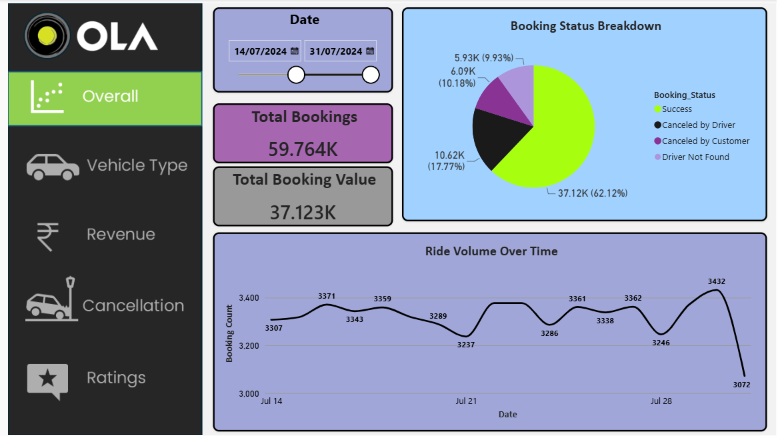

The page's visual inventory and layout, read from the dashboard file:
{"tool":"powerbi","page":{"name":"Overall","canvas":[1920,1080],"ordinal":0},"visuals":[{"type":"actionButton","box":[316.7,398.3,326.7,90],"z":0},{"type":"actionButton","box":[316.7,511.7,326.7,91.7],"z":1000},{"type":"actionButton","box":[316.7,398.3,326.7,90],"z":2000},{"type":"actionButton","box":[316.7,403.3,326.7,90],"z":3000},{"type":"actionButton","box":[316.7,625,326.7,91.7],"z":4000},{"type":"actionButton","box":[316.7,755,326.7,90],"z":5000},{"type":"lineChart","title":"Ride Volume Over Time","fields":{"Category":["July.Date"],"Y":["CountNonNull(July.Booking_ID)"]},"box":[661.7,558.3,923.3,331.7],"z":6000},{"type":"pieChart","title":"Booking Status Breakdown","fields":{"Category":["July.Booking_Status"],"Y":["CountNonNull(July.Booking_Status)"]},"box":[976.7,183.3,608.3,356.7],"z":7000},{"type":"slicer","title":"Date","fields":{"Values":["July.Date"]},"box":[661.7,183.3,300,142],"z":8000},{"type":"cardVisual","title":"Total Bookings","fields":{"Data":["CountNonNull(July.Booking_ID)"]},"box":[661.7,343.3,300,100],"z":9000},{"type":"cardVisual","title":"Total Booking Value","fields":{"Data":["CountNonNull(July.Booking_Value)"]},"box":[661.7,448.3,300,100],"z":10000}]}

Visuals, with their boxes in screenshot pixels (x1, y1, x2, y2), scaled from the page's 1920x1080 canvas onto the 777x436 screenshot:
actionButton: (x1=128, y1=161, x2=260, y2=197)
actionButton: (x1=128, y1=207, x2=260, y2=244)
actionButton: (x1=128, y1=161, x2=260, y2=197)
actionButton: (x1=128, y1=163, x2=260, y2=199)
actionButton: (x1=128, y1=252, x2=260, y2=289)
actionButton: (x1=128, y1=305, x2=260, y2=341)
"Ride Volume Over Time" lineChart: (x1=268, y1=225, x2=641, y2=359)
"Booking Status Breakdown" pieChart: (x1=395, y1=74, x2=641, y2=218)
"Date" slicer: (x1=268, y1=74, x2=389, y2=131)
"Total Bookings" cardVisual: (x1=268, y1=139, x2=389, y2=179)
"Total Booking Value" cardVisual: (x1=268, y1=181, x2=389, y2=221)
